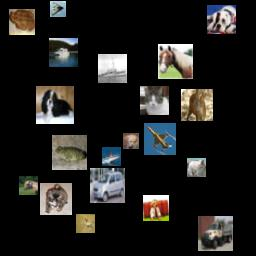airplane: (144, 123, 176, 155), (50, 1, 66, 17)
automobile: (90, 168, 125, 203)
cat: (140, 86, 169, 115), (187, 158, 206, 177)
deer: (181, 89, 213, 121), (76, 214, 95, 233)
dog: (36, 86, 74, 124), (40, 183, 72, 215), (207, 5, 236, 34), (143, 195, 169, 221), (123, 133, 139, 149)
frog: (52, 135, 87, 170), (9, 9, 35, 35)
ship: (49, 38, 78, 67), (98, 54, 127, 83), (102, 147, 121, 166)
truck: (198, 216, 233, 251)
